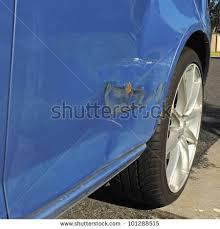doorouter-dent: (28, 18, 158, 169)
